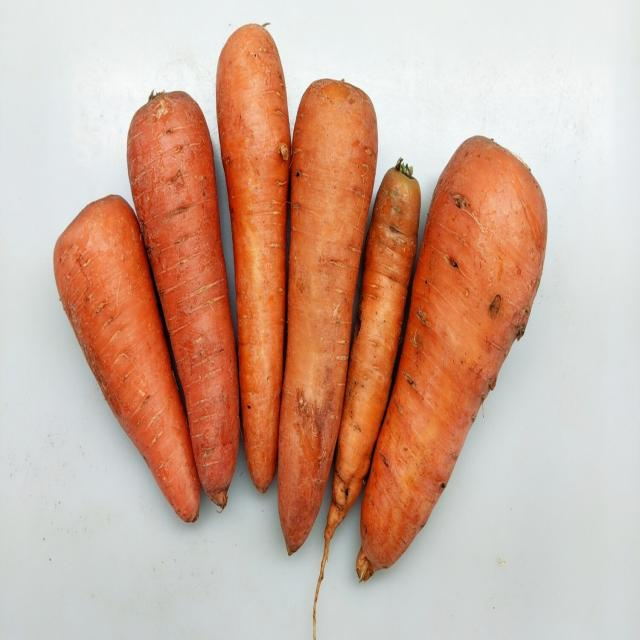Carrot: (358, 134, 550, 579), (273, 67, 379, 562), (45, 192, 198, 530), (126, 86, 240, 511), (326, 158, 420, 548), (215, 23, 292, 493)
